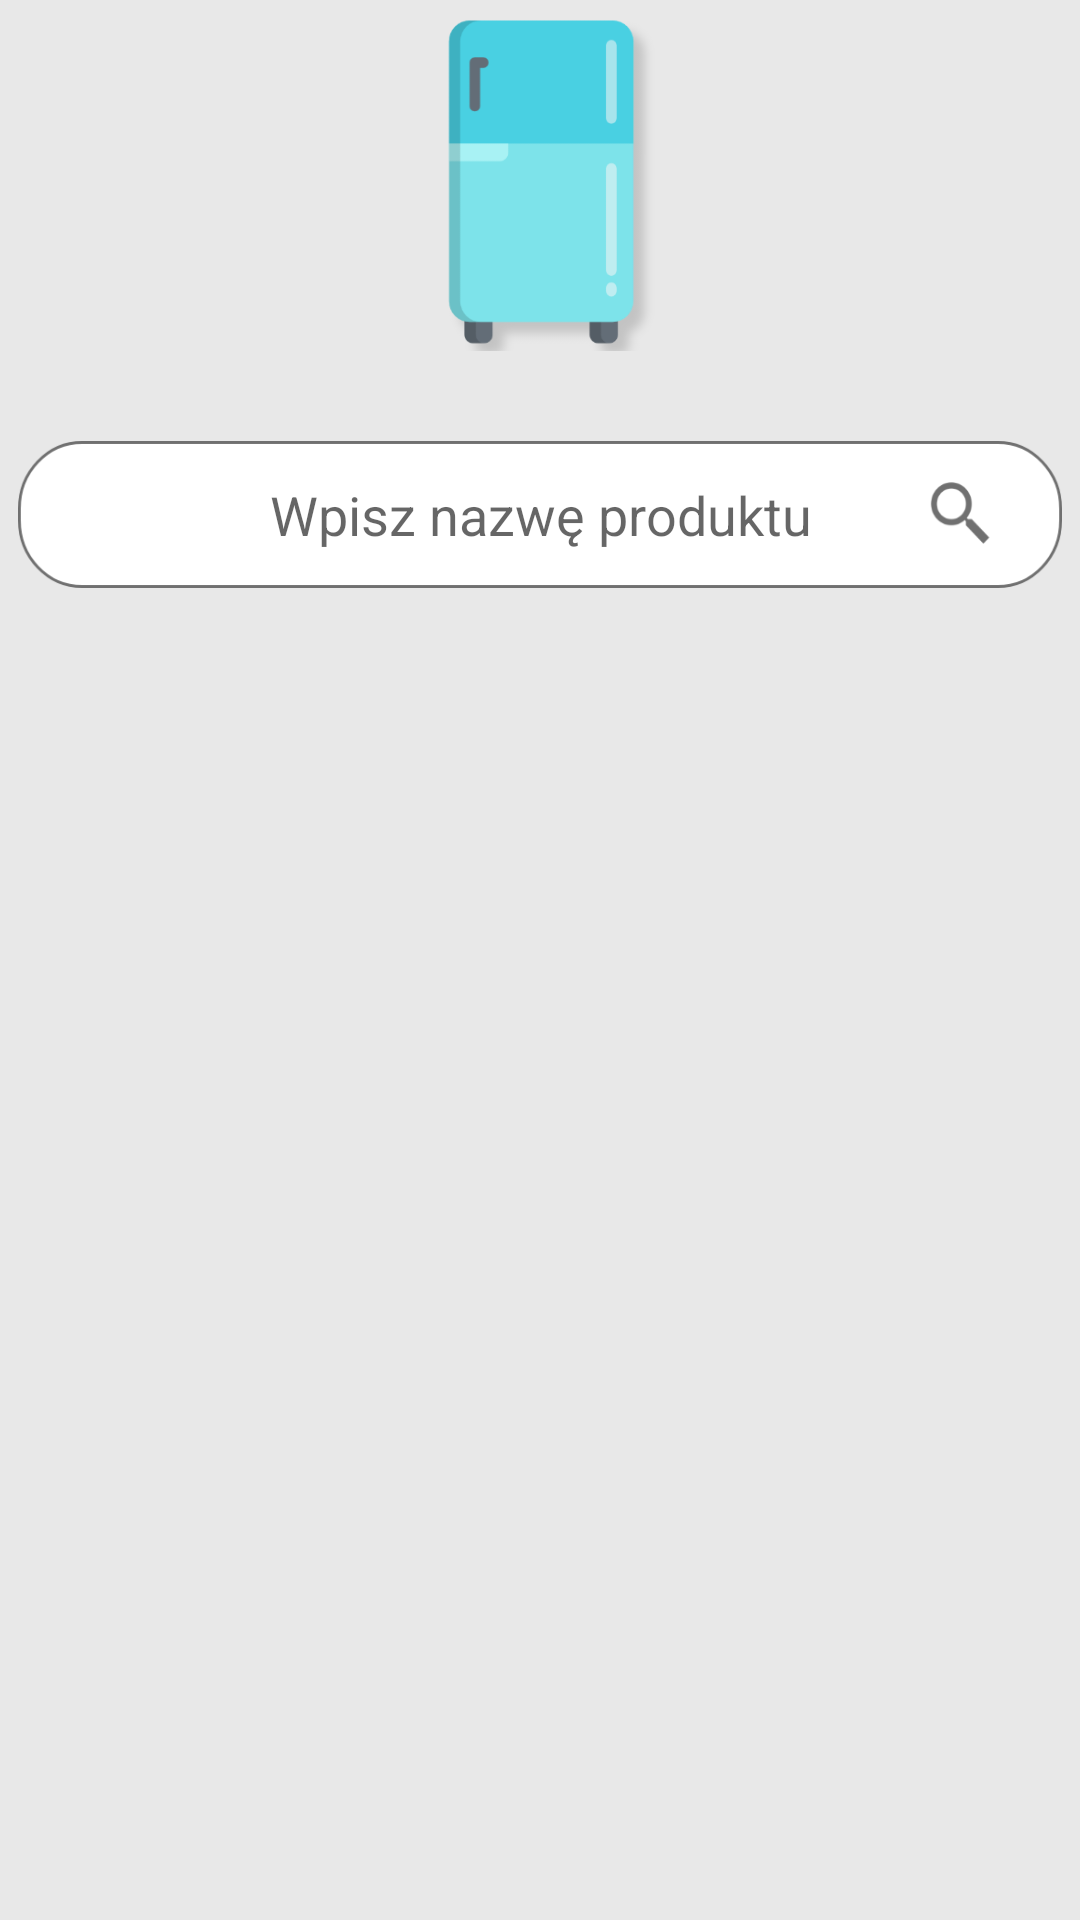

Named icons in this screenshot (1080w x 1920h) and their bounding boxes, (x1, y1, x2, y2):
kitchen: (448, 20, 642, 351)
